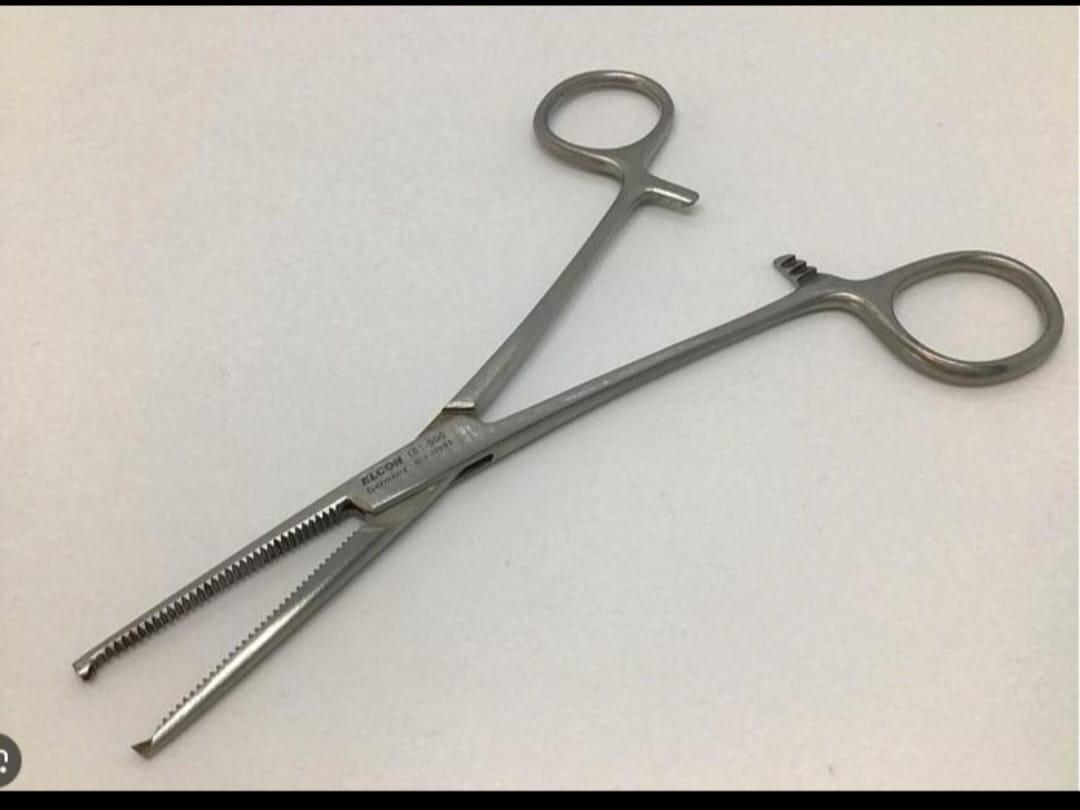Kocher Forceps: (69, 64, 1059, 764)
